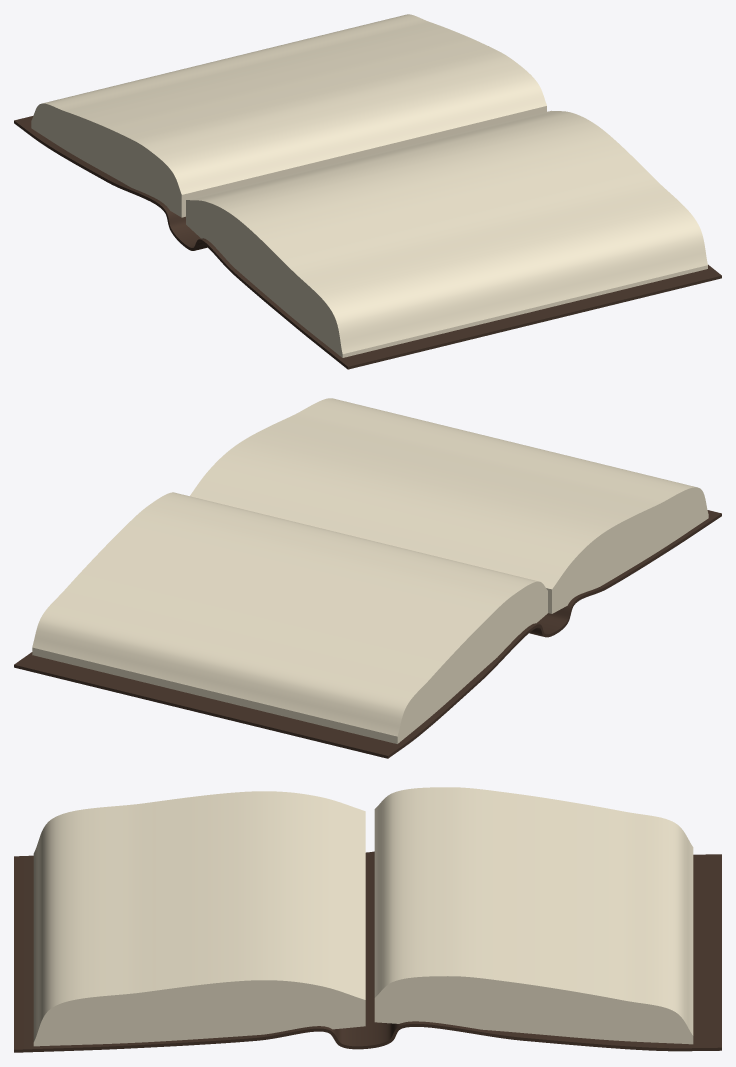
File: simready-book_open_a01.glb
The picture shows the model from 3 angles, top to bottom: view 1: azimuth 30°, elevation 25°; view 2: azimuth 150°, elevation 25°; view 3: azimuth 270°, elevation 25°; orthographic projection. The views are drawn at different scales.
Visible parts, largest first — view 1: pages, facing, binding; view 2: facing, pages, binding; view 3: pages, facing, binding.
Boxes of the visible parts, x1,y1,x2,y2 form: pages: (186, 110, 707, 357); facing: (31, 14, 546, 217); binding: (14, 116, 721, 369); facing: (32, 492, 547, 743); pages: (190, 398, 708, 613); binding: (14, 510, 721, 758); pages: (33, 791, 365, 1046); facing: (374, 787, 693, 1044); binding: (14, 851, 721, 1052).
Bounding box in the file's own units: 0.2068 × 0.037 × 0.3198.
